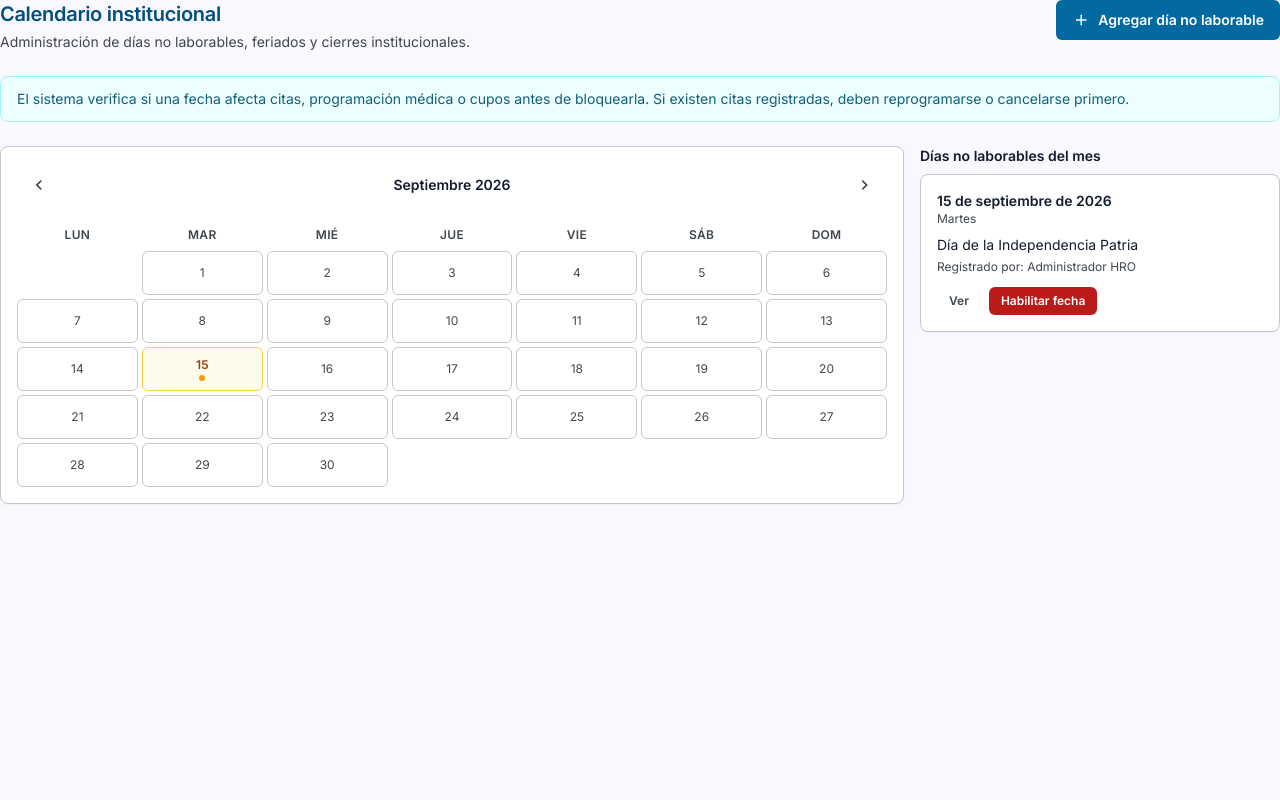
Scenario: CalendarioPage › crea un día no laborable y lo refleja en el listado
This screenshot has width=1280, height=800.
Click the button "Agregar día no laborable": x=1168, y=20 [1056, 0, 1279, 40]
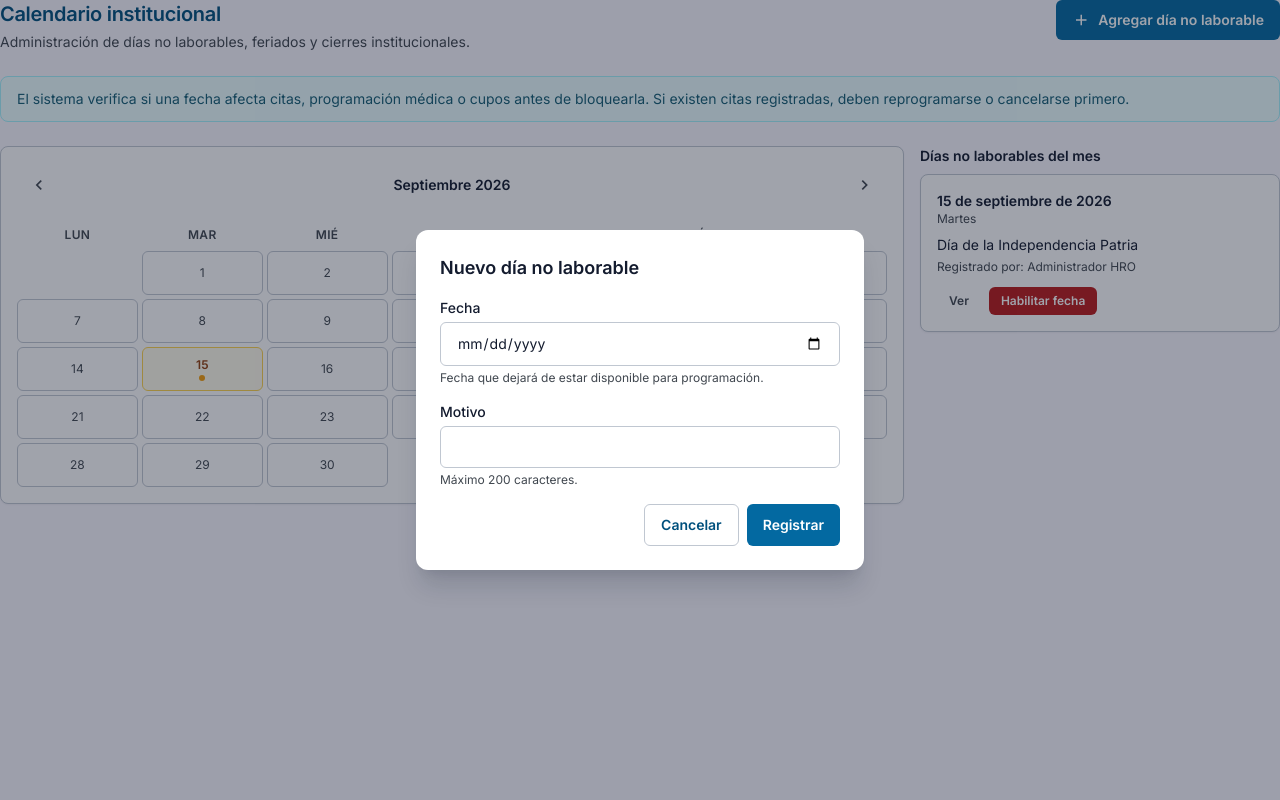
In the date field labelled "Fecha": x=640, y=344 [440, 322, 840, 366], type "2026-09-10"
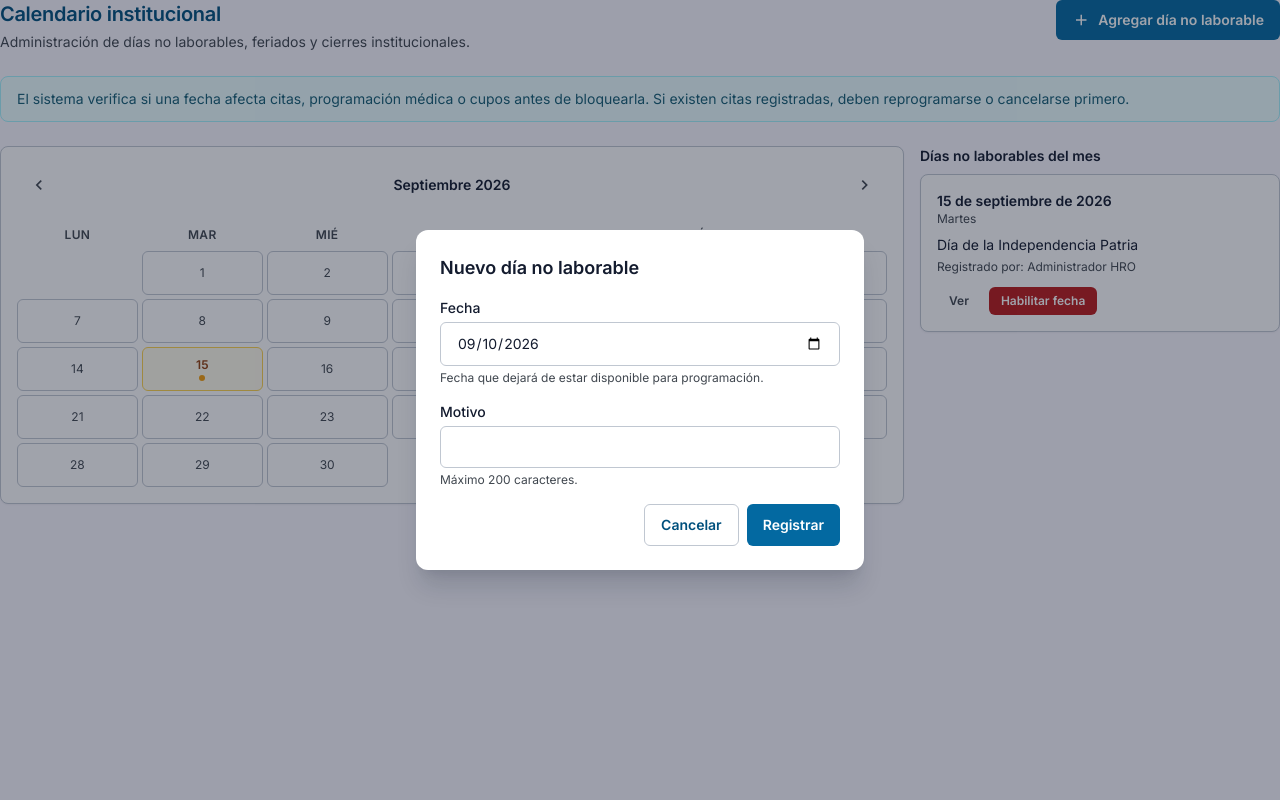
In the field labelled "Motivo Máximo 200 caracteres.": x=640, y=447 [440, 426, 840, 468], type "Asueto local"
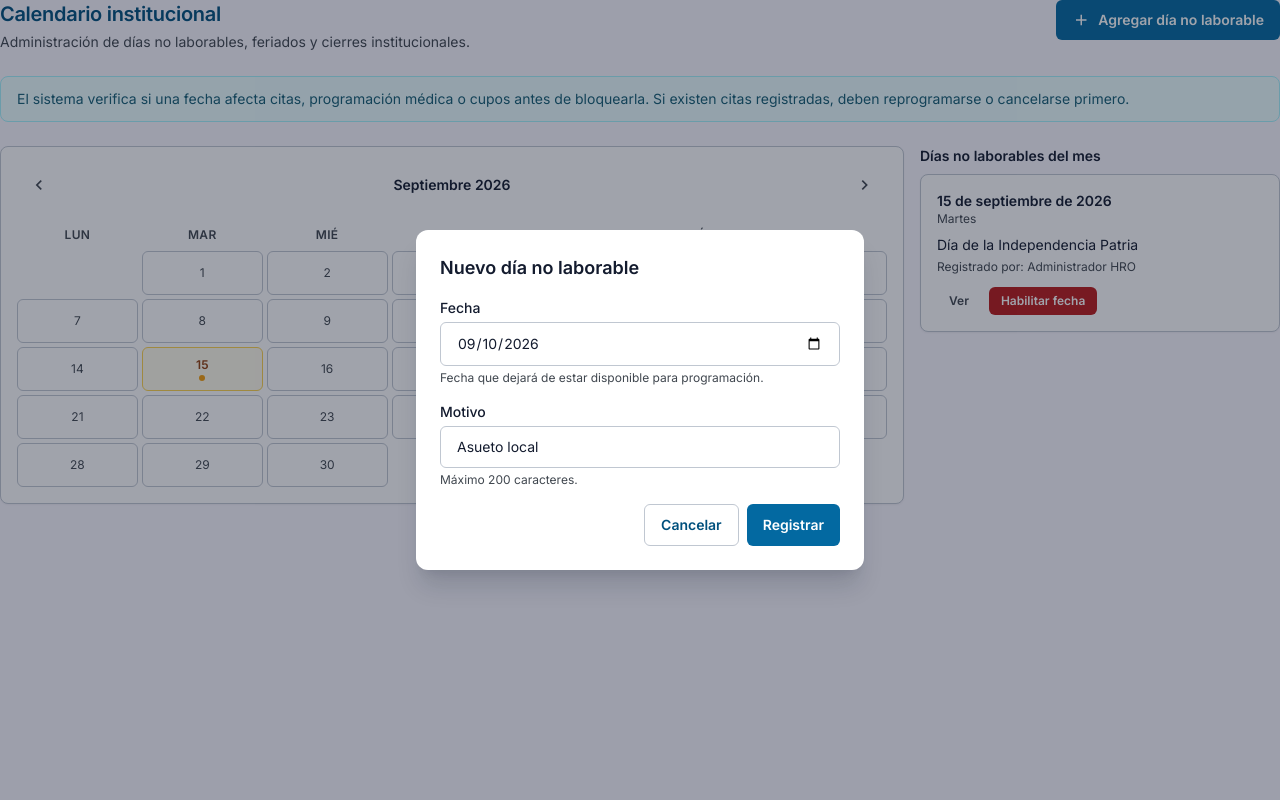
Click the button "Registrar": x=793, y=525 [747, 504, 840, 546]
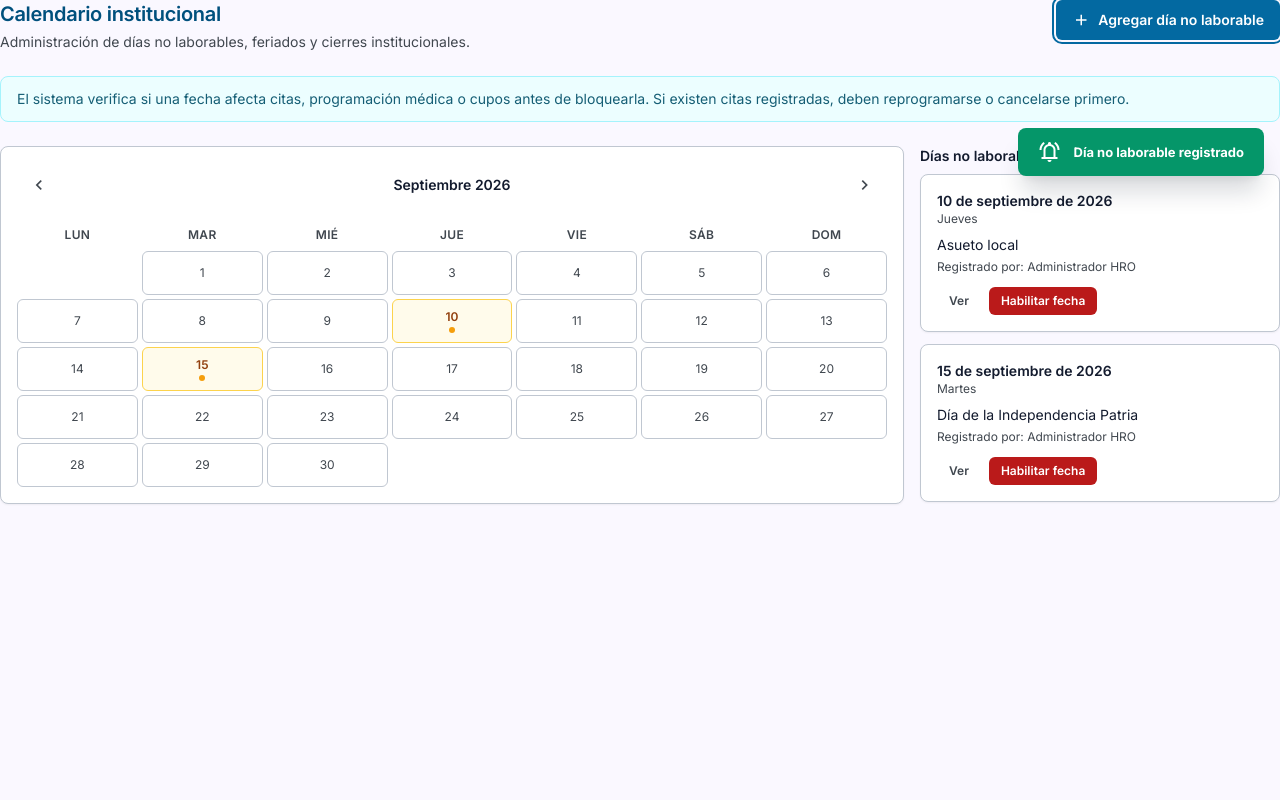
Result: the text "Día no laborable registrado" is shown at [1074, 143, 1244, 161]
Result: the text "Asueto local" is shown at [937, 236, 1018, 253]
